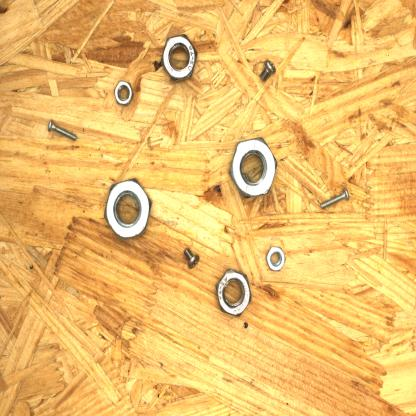screw: (46, 118, 80, 142), (318, 186, 353, 209), (183, 244, 203, 270), (260, 57, 278, 83)
